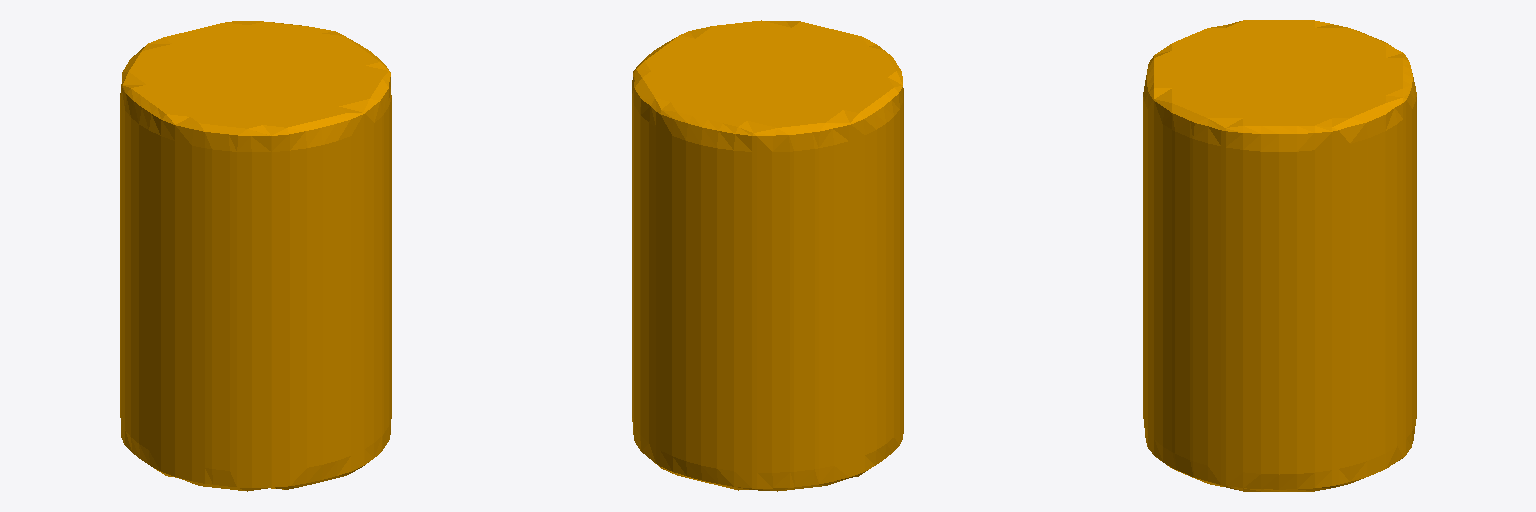
robot.urdf — cylinder_../../meshes/cylinders/cylinder_66.stl:
<?xml version="1.0" encoding="utf-8"?>  <robot name="cylinder_../../meshes/cylinders/cylinder_66.stl">   <link name="cylinder_../../meshes/cylinders/cylinder_66.stl">     <visual>       <geometry>         <mesh filename="../meshes/cylinders/cylinder_66.stl" scale="1 1 1"/>       </geometry>     </visual>     <collision>       <geometry>         <mesh filename="../meshes/cylinders/cylinder_66.stl" scale="1 1 1"/>       </geometry>     </collision>     <inertial>        <origin         xyz="0 0 0"         rpy="0 0 0" />       <mass value="0.5244231701370434"/>       <origin rpy="0 0 0" xyz="0 0 0"/>       <inertia ixx="0.0007521587734751003" ixy="-1.792720147432319e-08" ixz="-2.0635861614974092e-08" iyy="0.0007521588645121454" iyz="-1.7027088664576703e-08" izz="0.00038585195666033026"/>     </inertial>   </link>  </robot>

--- Render facts (derived) ---
The picture shows the robot from 3 angles, left to right: view 1: azimuth 30°, elevation 25°; view 2: azimuth 150°, elevation 25°; view 3: azimuth 270°, elevation 25°; orthographic projection.
Robot: cylinder_../../meshes/cylinders/cylinder_66.stl — 1 links, 0 joints (none); root link cylinder_../../meshes/cylinders/cylinder_66.stl; default pose: every joint at zero.
Links seen in each view (by area): view 1: cylinder_../../meshes/cylinders/cylinder_66.stl; view 2: cylinder_../../meshes/cylinders/cylinder_66.stl; view 3: cylinder_../../meshes/cylinders/cylinder_66.stl.
Boxes of the visible links, x1=… form: cylinder_../../meshes/cylinders/cylinder_66.stl: x1=120, y1=21, x2=391, y2=491; cylinder_../../meshes/cylinders/cylinder_66.stl: x1=632, y1=20, x2=903, y2=491; cylinder_../../meshes/cylinders/cylinder_66.stl: x1=1143, y1=20, x2=1416, y2=491.
Size in the robot's own frame: 0.077 by 0.077 by 0.1135 metres.
1 mesh visuals loaded from 1 distinct referenced files (1 binary STL).